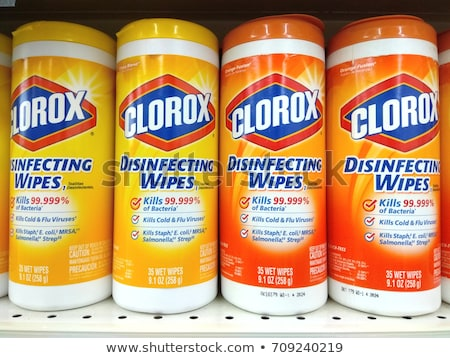Wipes: (325, 11, 443, 318), (219, 12, 335, 318), (109, 14, 221, 316), (4, 18, 117, 313), (1, 30, 18, 300), (434, 21, 449, 314)
